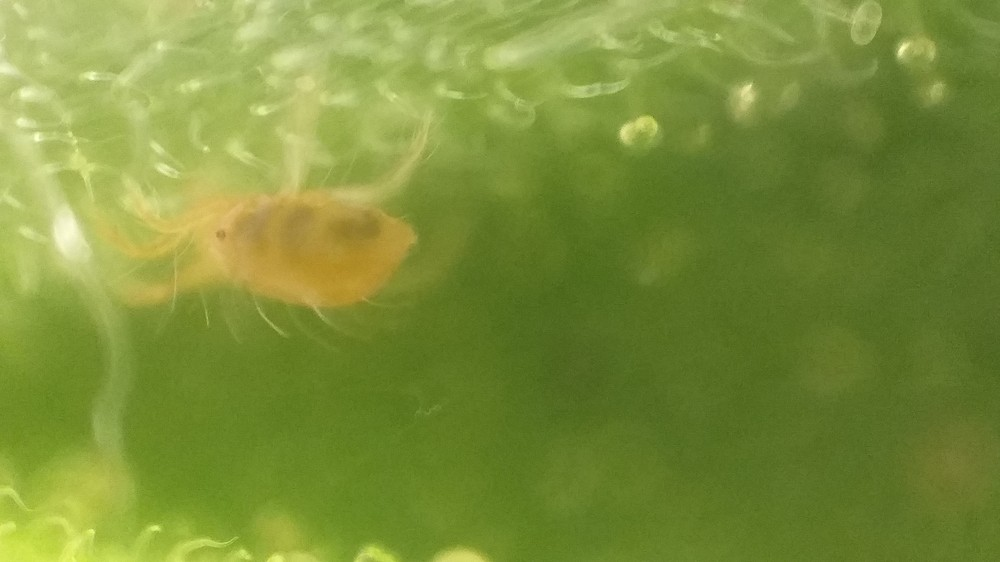Aracnido Rojo: (91, 104, 477, 370)
